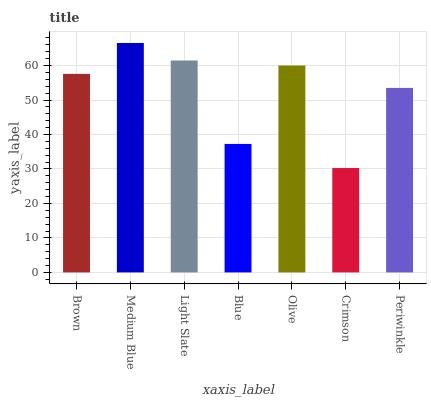axis: (41, 34, 54, 283)
label: (119, 291, 141, 378), (176, 294, 196, 361), (389, 293, 409, 357), (336, 293, 357, 344), (283, 292, 303, 333), (68, 293, 86, 335), (230, 293, 249, 325)
rectangle: (117, 43, 144, 272), (277, 65, 304, 271), (171, 61, 197, 271), (385, 87, 412, 273), (64, 74, 89, 272), (224, 144, 251, 273), (333, 168, 360, 273)
title: (45, 5, 89, 27)
